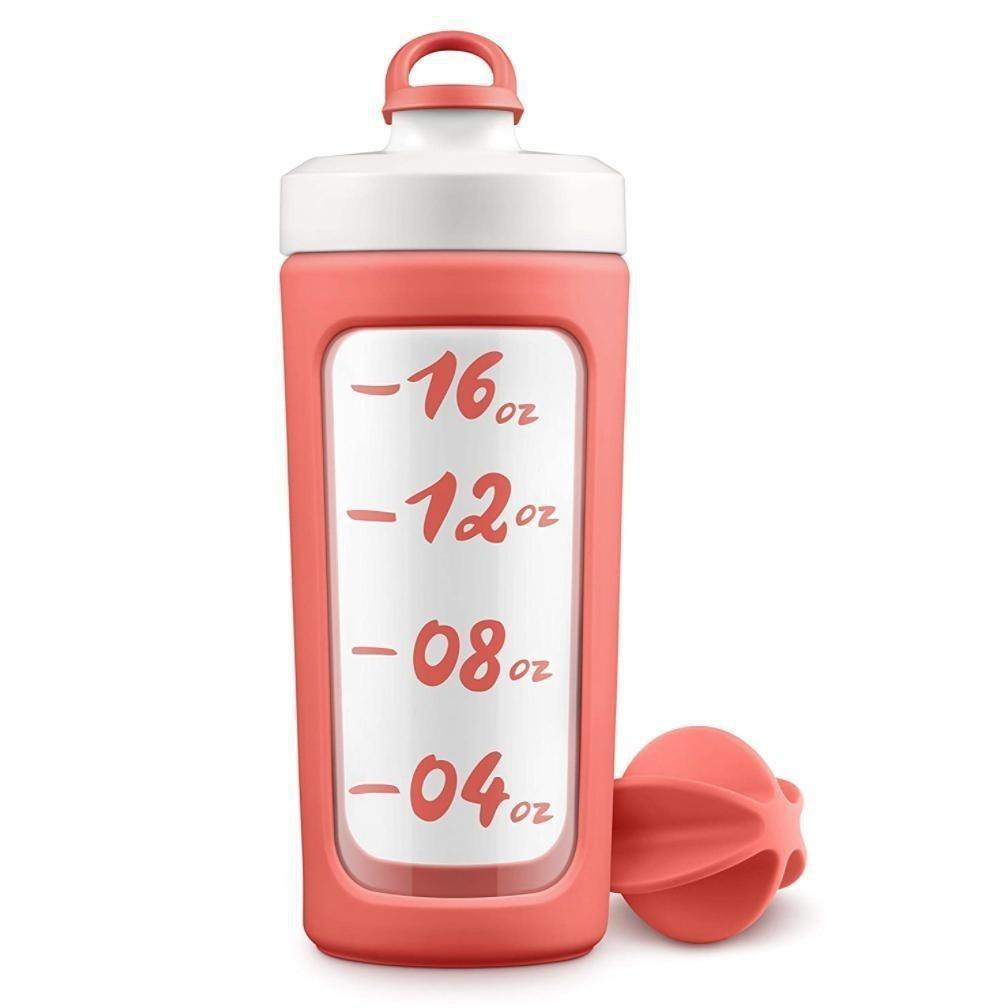gym bottle: (258, 12, 642, 986)
